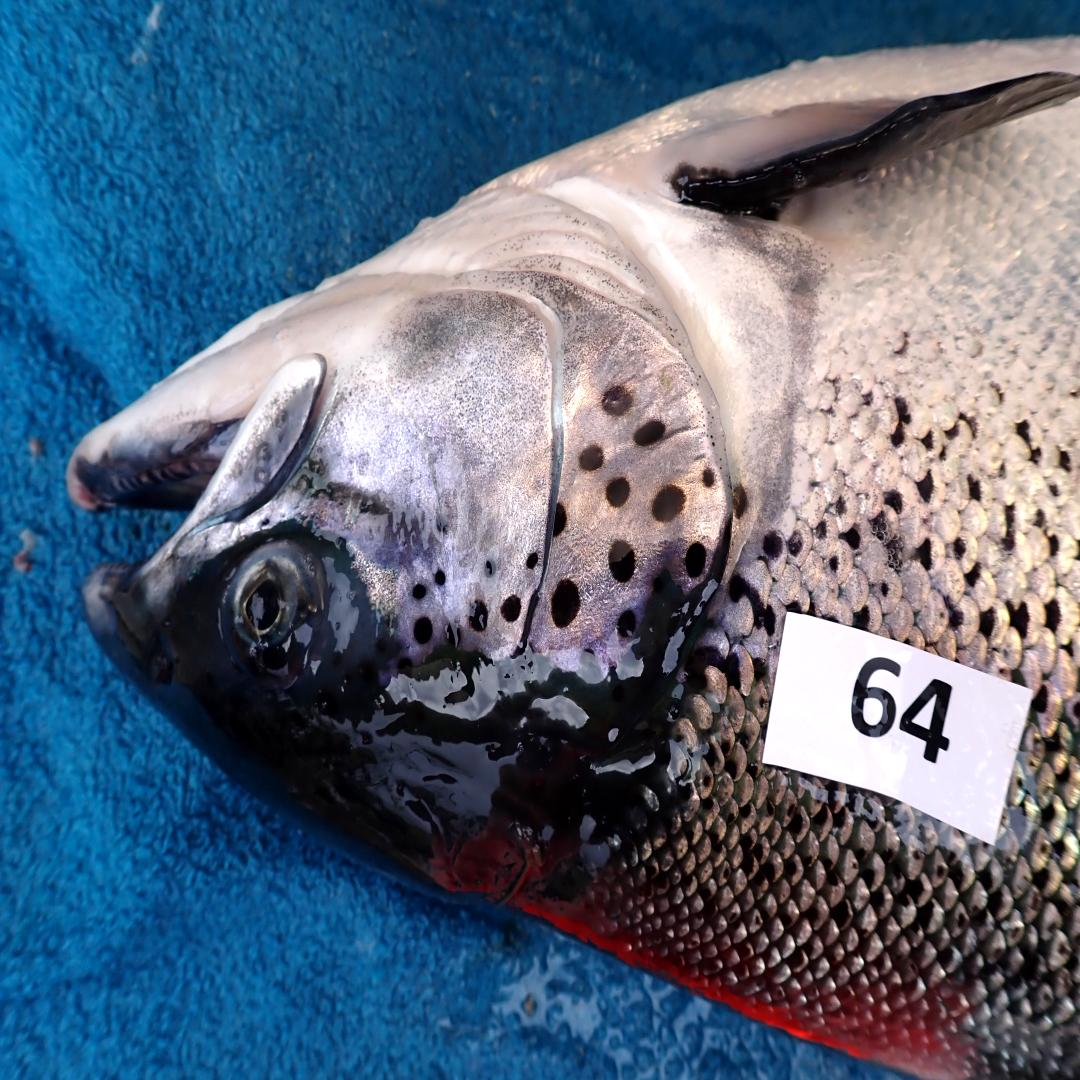roi: (320, 177, 728, 668)
